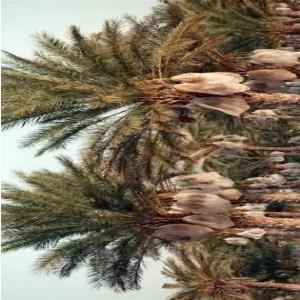palm tree: (0, 3, 299, 297)
